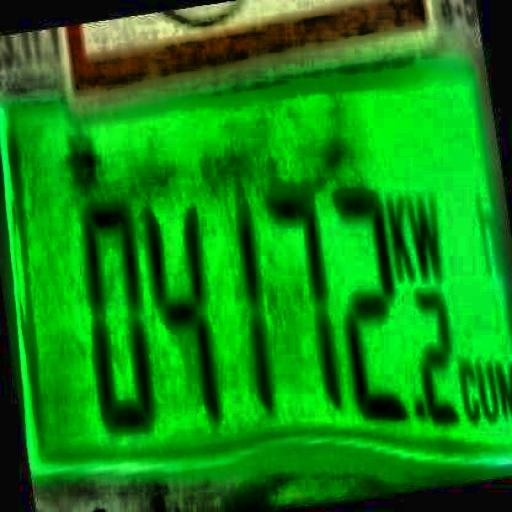DISPLAY_REGION: (1, 41, 511, 500)
SERIAL_REGION: (72, 171, 465, 467)
